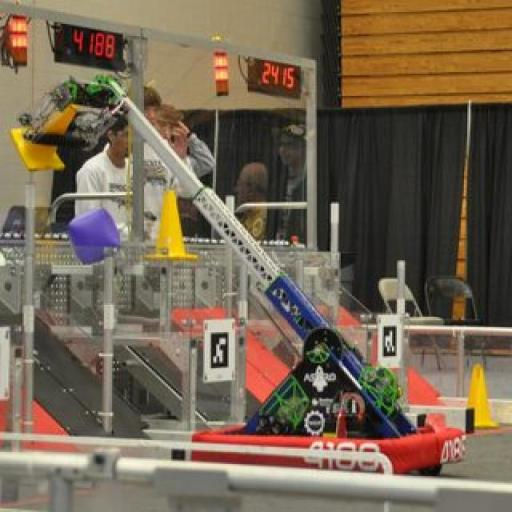robot: (0, 88, 480, 486)
